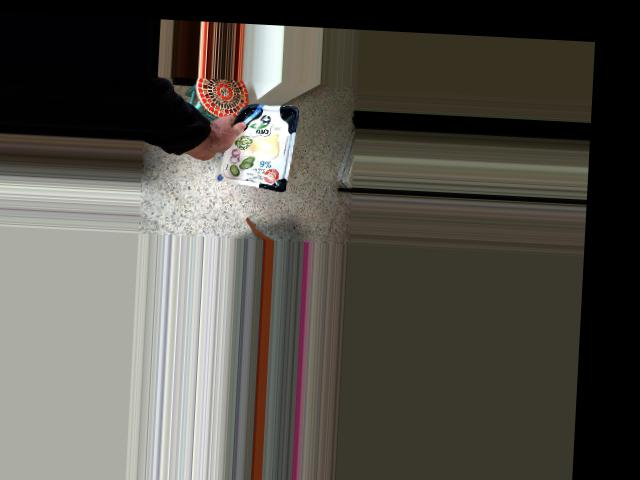cheese: (204, 113, 274, 190)
